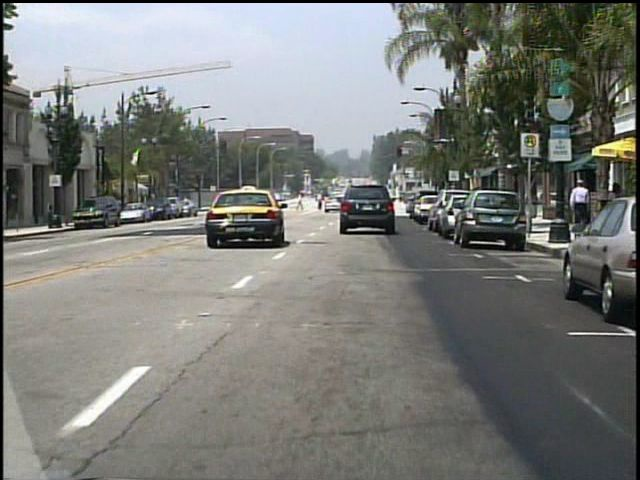person: (567, 179, 590, 231), (294, 192, 305, 212), (313, 193, 324, 212)
